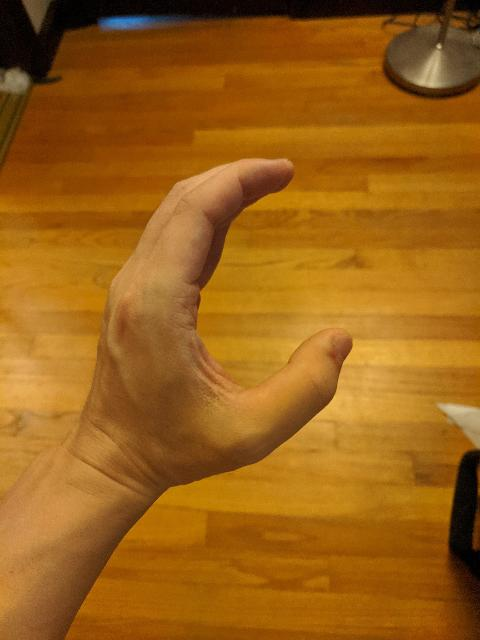C: (78, 152, 362, 494)
